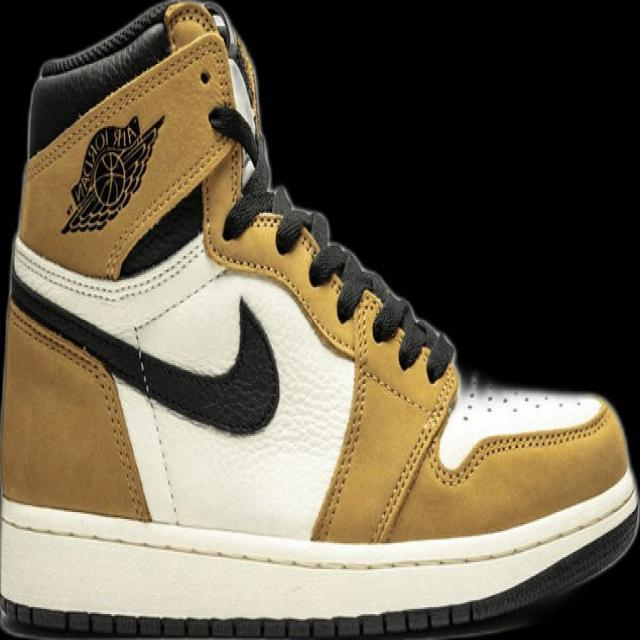J1_InsoleChar: (0, 0, 639, 639)
J1_ShoeLogo: (58, 112, 165, 235)
J1_StitchPattern: (21, 2, 245, 278), (1, 491, 638, 577), (306, 238, 459, 544), (228, 183, 455, 383), (5, 296, 153, 522), (306, 238, 456, 383), (2, 599, 480, 638), (309, 287, 378, 542), (368, 360, 459, 545), (429, 398, 614, 487), (125, 323, 183, 524), (161, 0, 217, 50)
